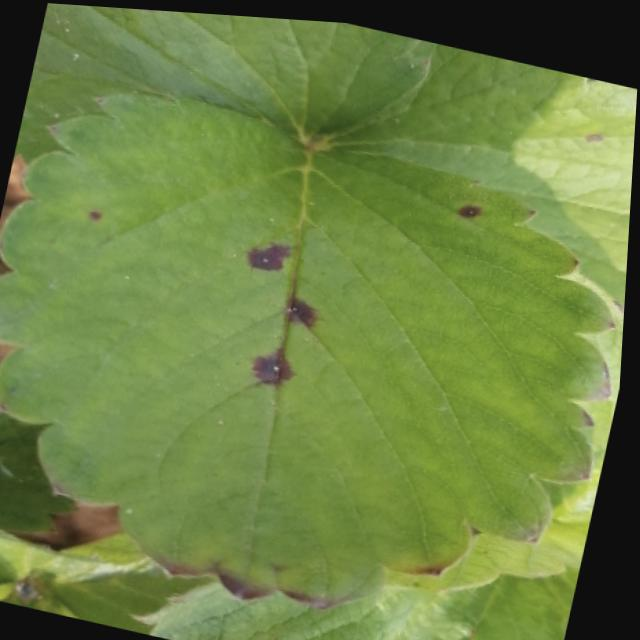Leaf Spot: (0, 91, 623, 606), (316, 34, 638, 306), (14, 2, 430, 160)
